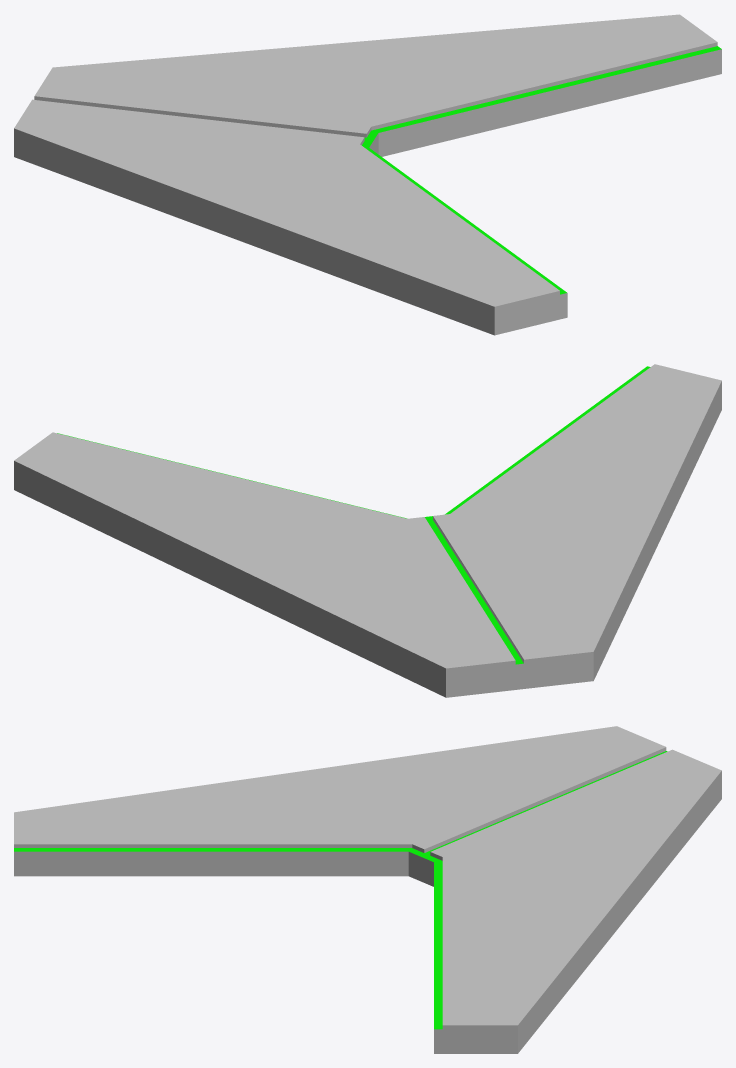
The model's file is x_KREPOST_floor4_BK1_rmstrd.fbx.
3 views of the same model, one above another, from view 1: azimuth 30°, elevation 25°; view 2: azimuth 150°, elevation 25°; view 3: azimuth 270°, elevation 25° (orthographic). The views are drawn at different scales.
Visible parts, largest first — view 1: x_KREPOST_floor4_BK1_rmstrd1; view 2: x_KREPOST_floor4_BK1_rmstrd1; view 3: x_KREPOST_floor4_BK1_rmstrd1.
Boxes of the visible parts, bbox=[...] form: x_KREPOST_floor4_BK1_rmstrd1: bbox=[14, 14, 721, 335]; x_KREPOST_floor4_BK1_rmstrd1: bbox=[14, 364, 721, 697]; x_KREPOST_floor4_BK1_rmstrd1: bbox=[14, 726, 721, 1053].
Size of the model in its own units: 8.38 by 0.3725 by 8.38.
